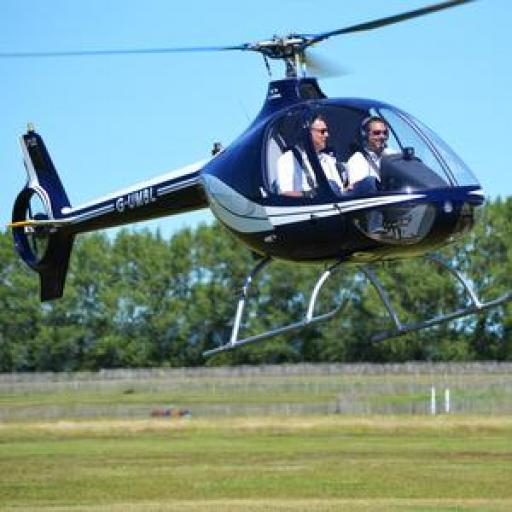helicopter: (3, 6, 510, 370)
